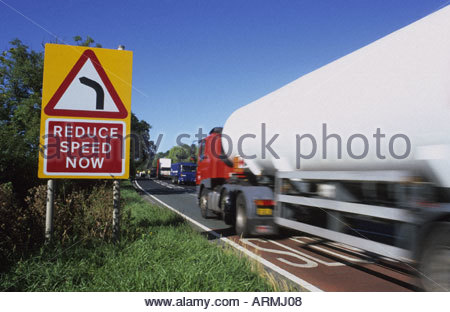Bend_to_left: (43, 48, 129, 119)
